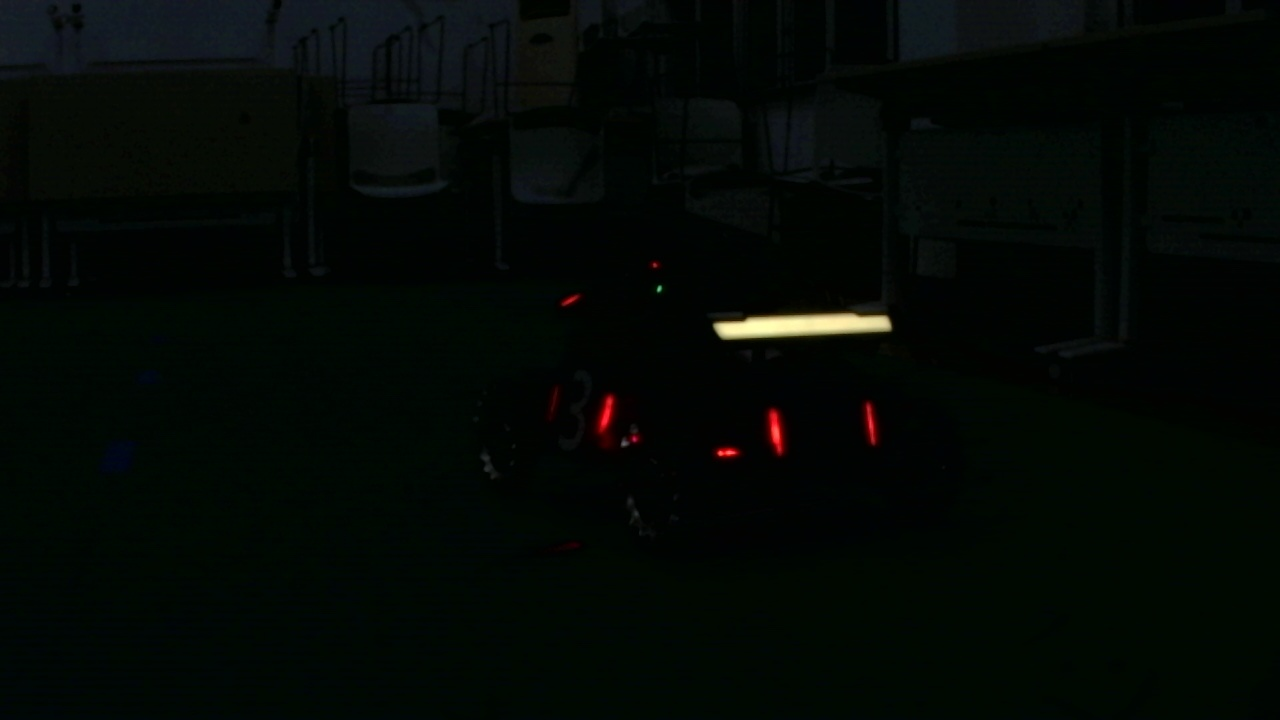lamp: (863, 397, 883, 452), (763, 406, 783, 458), (598, 391, 614, 440)
notpair1: (599, 389, 788, 463)
pair1: (765, 401, 882, 461)
